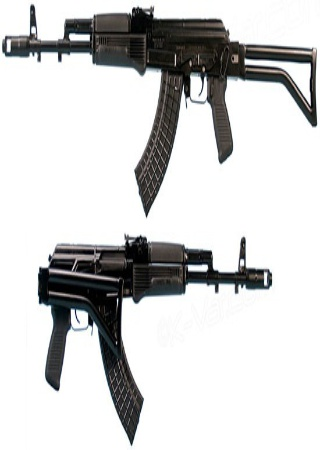rifle: (1, 1, 317, 211), (38, 236, 274, 445)
